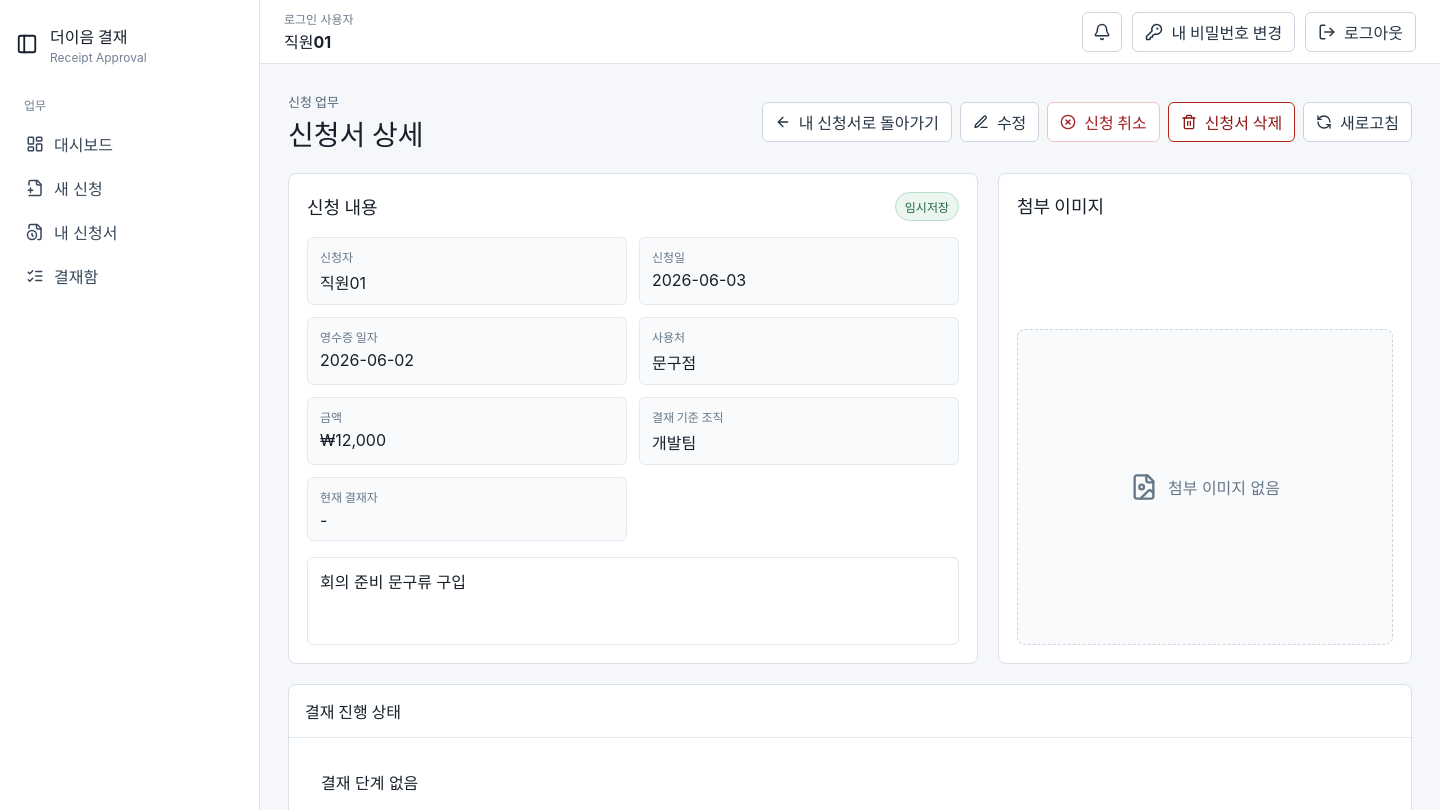
ApplicationDetailPage › 임시저장 신청서를 취소한다
Expected: the heading "신청서 상세" is shown, [288,119,423,153]
Expected: the text "임시저장" is shown, [895,192,959,221]
Click the button "신청 취소": (1104, 122) [1047,102,1160,142]
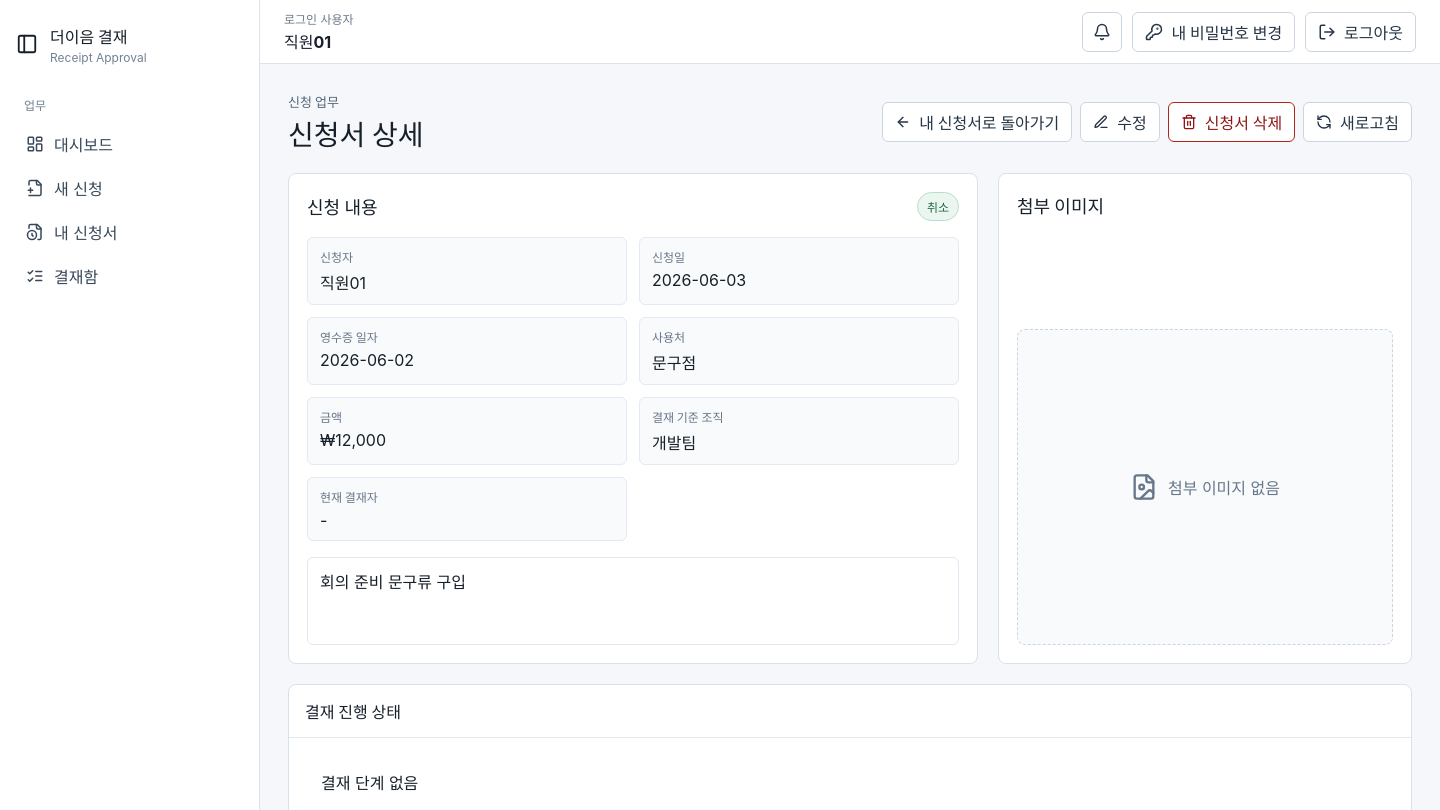
Expected: the text "취소" is shown, [917,192,959,221]
